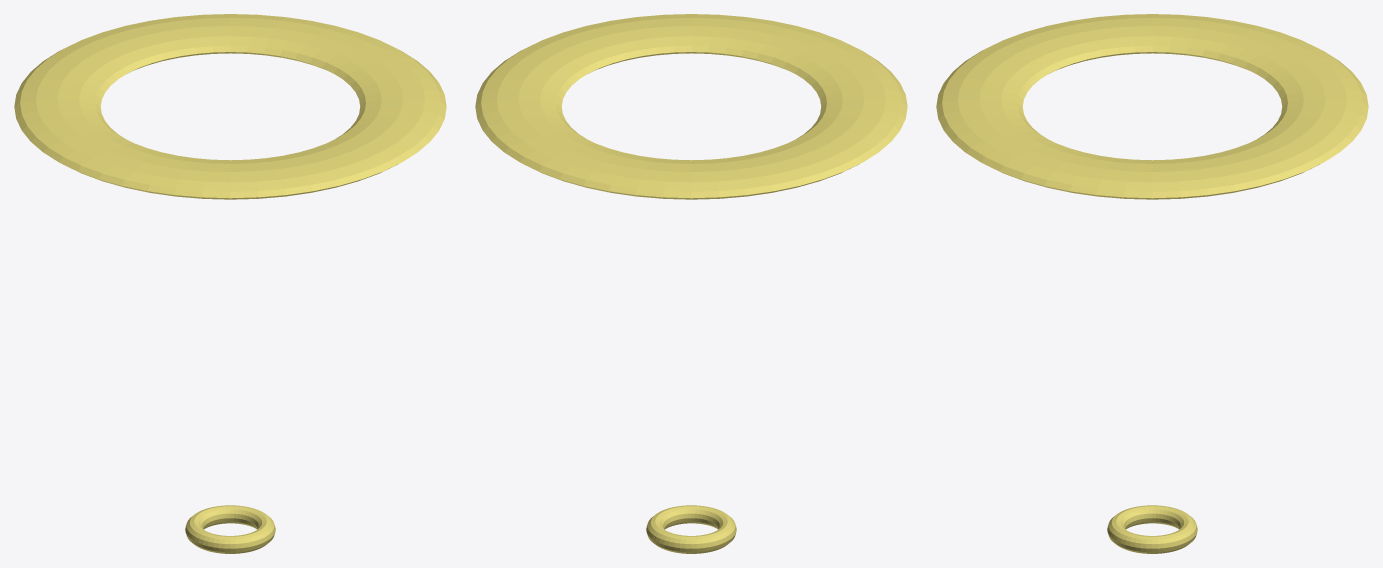
File: hypngenesis2.fbx
3 renders of one model, left to right at view 1: azimuth 30°, elevation 25°; view 2: azimuth 150°, elevation 25°; view 3: azimuth 270°, elevation 25°, orthographic.
Parts seen in each view (by area): view 1: Torus, Torus.002; view 2: Torus, Torus.002; view 3: Torus, Torus.002.
Part boxes in pixels (<box>): Torus: <box>14,14,446,199</box>; Torus.002: <box>185,505,275,553</box>; Torus: <box>475,14,907,199</box>; Torus.002: <box>646,505,736,553</box>; Torus: <box>936,14,1368,199</box>; Torus.002: <box>1107,505,1197,553</box>.
Bounding box in the file's own units: 109 × 122 × 109.
